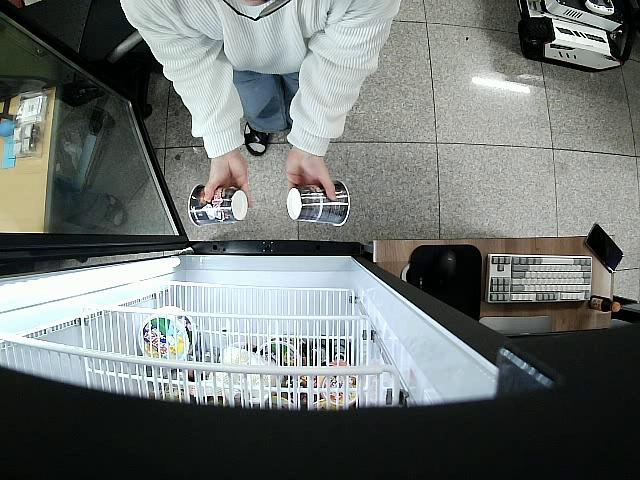00_hand: (285, 145, 338, 202), (205, 158, 253, 210)
08_buldak_S: (287, 180, 351, 227), (188, 183, 249, 228)
